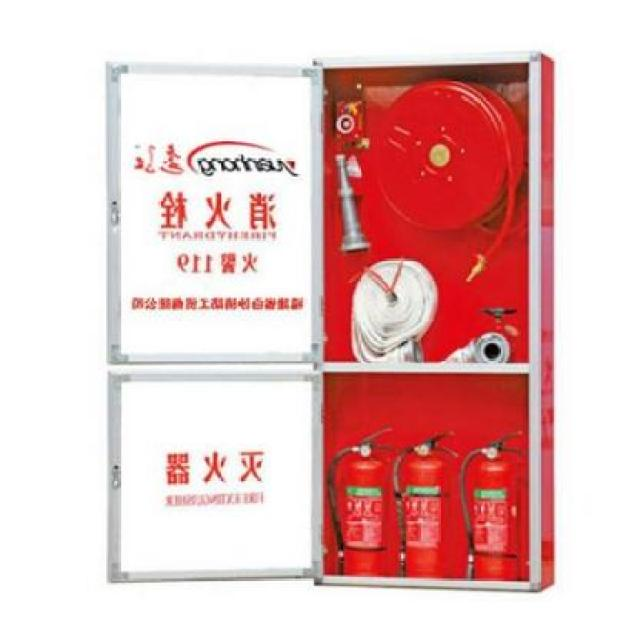firehydrant: (102, 43, 559, 599)
